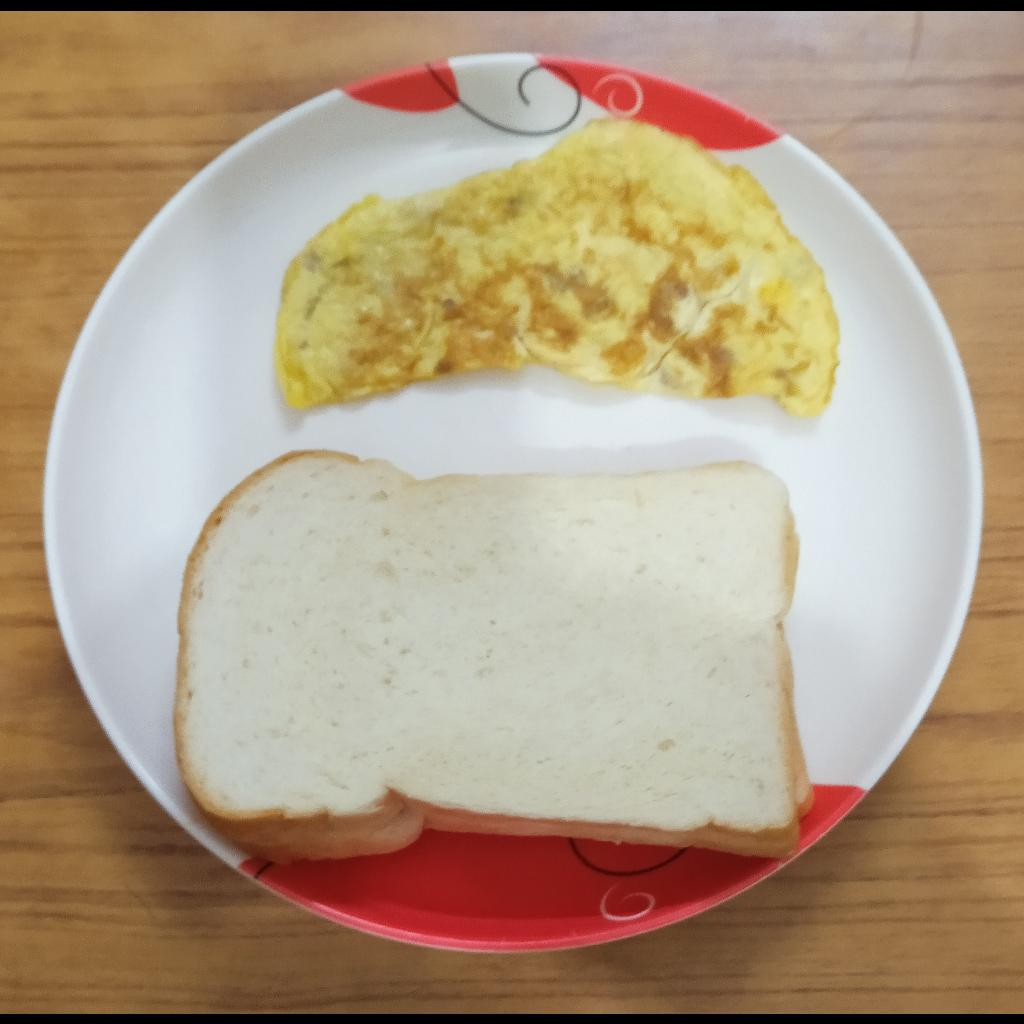bread: (172, 451, 816, 865)
egg-poached: (274, 118, 837, 418)
